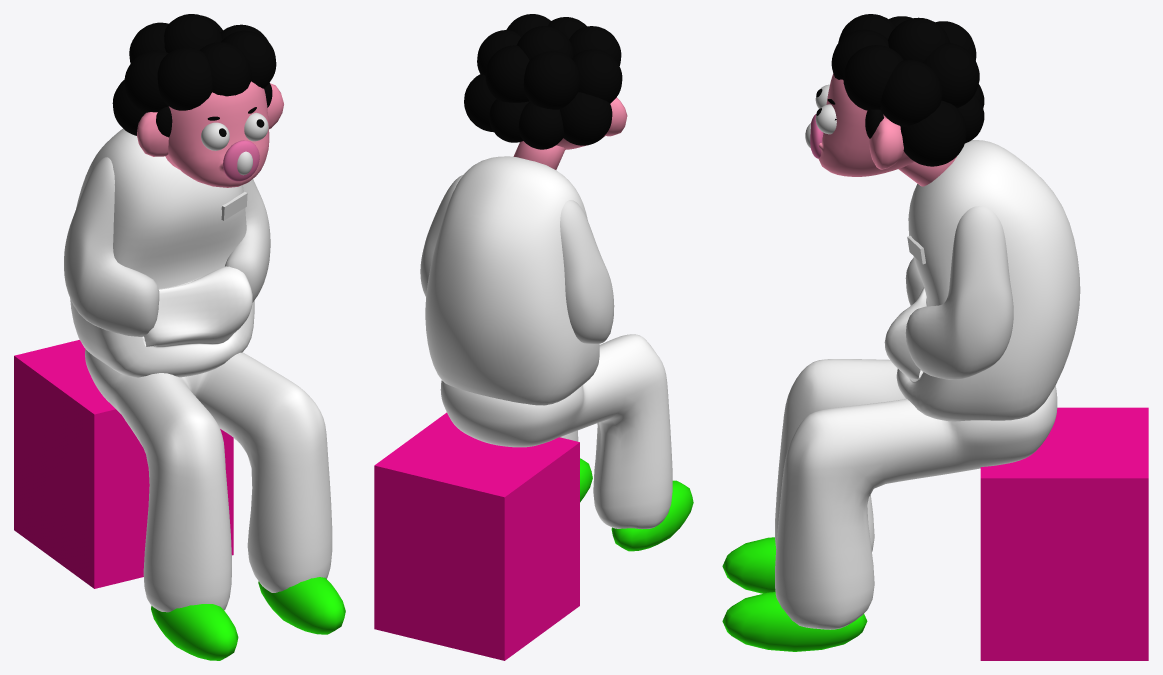
Rendered from friend_omg.glb.
The picture shows the model from 3 angles, left to right: view 1: azimuth 30°, elevation 25°; view 2: azimuth 150°, elevation 25°; view 3: azimuth 270°, elevation 25°; orthographic projection. The views are drawn at different scales.
Parts seen in each view (by area): view 1: pCube10, pCube9, 1body1, hair, 3-2body, pCube1, pCube13, pCube12, 구체.010, 구체.005, 구체.008; view 2: pCube9, 1body1, pCube10, hair, 3-2body, pCube13, pCube1, 구체.016; view 3: pCube9, pCube10, 1body1, hair, 3-2body, pCube1, pCube12, 구체.016, pCube13.
Boxes of the visible parts, bbox=[...] form: pCube10: bbox=[85, 336, 332, 612]; pCube9: bbox=[14, 340, 233, 588]; 1body1: bbox=[70, 128, 254, 377]; hair: bbox=[112, 14, 276, 137]; 3-2body: bbox=[64, 157, 270, 336]; pCube1: bbox=[137, 81, 283, 187]; pCube13: bbox=[151, 604, 238, 660]; pCube12: bbox=[258, 577, 345, 634]; 구체.010: bbox=[223, 140, 259, 181]; 구체.005: bbox=[201, 122, 229, 150]; 구체.008: bbox=[244, 112, 268, 141]; pCube9: bbox=[374, 412, 579, 660]; 1body1: bbox=[425, 156, 599, 405]; pCube10: bbox=[440, 334, 672, 529]; hair: bbox=[477, 14, 622, 149]; 3-2body: bbox=[420, 174, 614, 343]; pCube13: bbox=[611, 480, 693, 551]; pCube1: bbox=[513, 97, 627, 169]; 구체.016: bbox=[464, 74, 496, 132]; pCube9: bbox=[980, 407, 1148, 660]; pCube10: bbox=[775, 359, 1057, 629]; 1body1: bbox=[884, 140, 1080, 421]; hair: bbox=[831, 14, 984, 143]; 3-2body: bbox=[905, 206, 1013, 379]; pCube1: bbox=[818, 73, 956, 186]; pCube12: bbox=[722, 592, 867, 651]; 구체.016: bbox=[900, 100, 966, 166]; pCube13: bbox=[722, 537, 776, 593].
Bounding box in the file's own units: 0.4183 × 1.19 × 0.7618.
